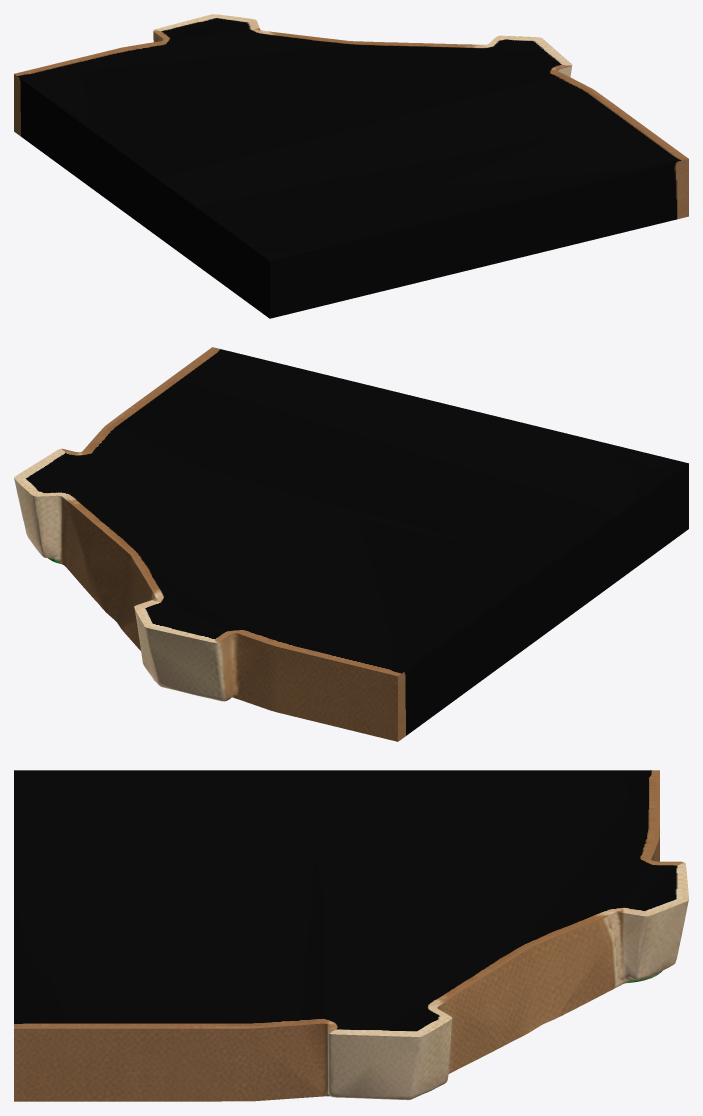
File: 12-roof-back-right.fbx
The picture shows the model from 3 angles, top to bottom: view 1: azimuth 30°, elevation 25°; view 2: azimuth 150°, elevation 25°; view 3: azimuth 270°, elevation 25°; orthographic projection. The views are drawn at different scales.
Parts seen in each view (by area): view 1: roof-back-right; view 2: roof-back-right; view 3: roof-back-right.
Part boxes in pixels (x1,y1,x2,y2): roof-back-right: [14, 14, 688, 318]; roof-back-right: [14, 347, 688, 741]; roof-back-right: [14, 770, 688, 1101].
Bounding box in the file's own units: 7478 × 953 × 8003.
Materials: 1 (1 with a texture image).
